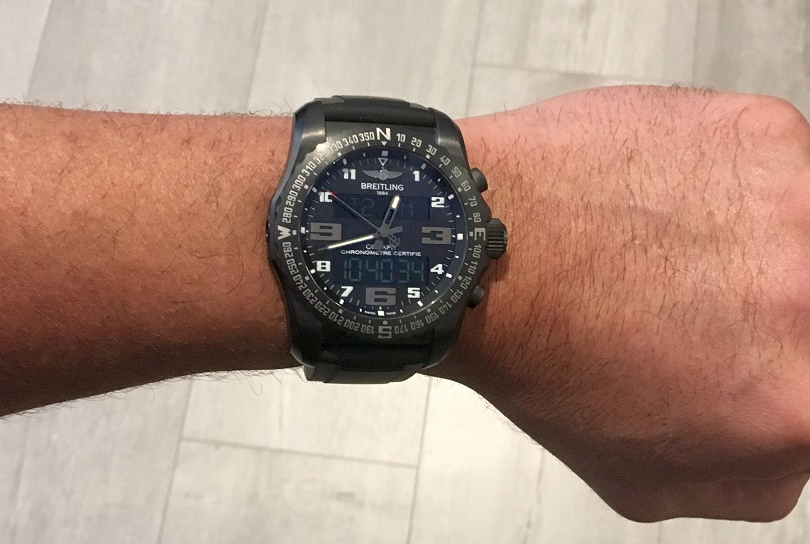clock: (297, 144, 471, 324)
